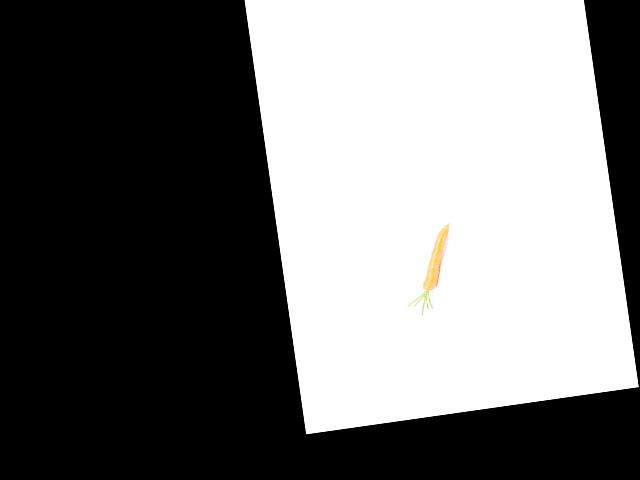carrot: (409, 221, 460, 300)
